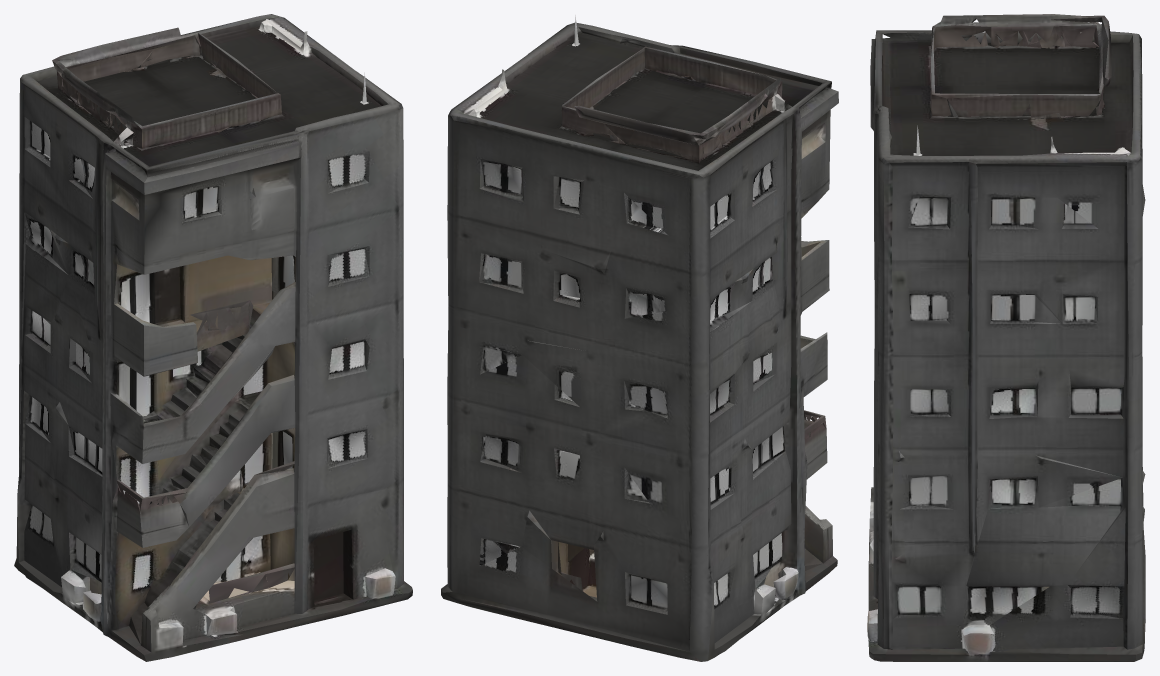
File: mixed.glb
The picture shows the model from 3 angles, left to right: view 1: azimuth 30°, elevation 25°; view 2: azimuth 150°, elevation 25°; view 3: azimuth 270°, elevation 25°; orthographic projection. The views are drawn at different scales.
Visible parts, largest first — view 1: mixed; view 2: mixed; view 3: mixed.
Part boxes in pixels (x1,y1,x2,y2): mixed: (14, 14, 412, 661); mixed: (441, 15, 838, 661); mixed: (867, 14, 1145, 661).
Bounding box in the file's own units: 9.06 × 16 × 7.69.
1 material, 1 textured.
